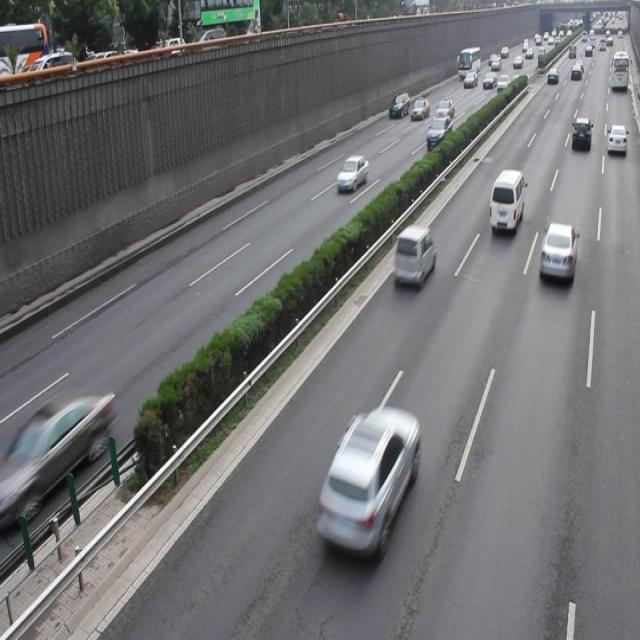car: (313, 406, 416, 558), (15, 388, 114, 502), (392, 223, 433, 285), (537, 222, 575, 284), (336, 155, 368, 192)
truck: (488, 170, 523, 233)
